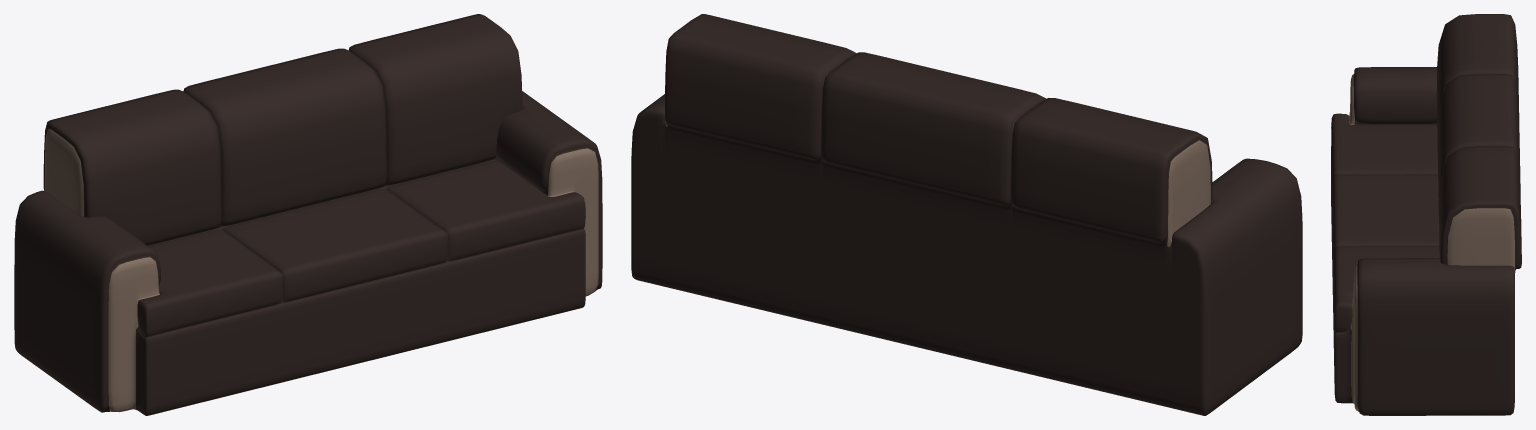
File: Couch.fbx
The picture shows the model from 3 angles, left to right: view 1: azimuth 30°, elevation 25°; view 2: azimuth 150°, elevation 25°; view 3: azimuth 270°, elevation 25°; orthographic projection. The views are drawn at different scales.
Parts seen in each view (by area): view 1: Couch; view 2: Couch; view 3: Couch.
Part boxes in pixels (x1=…): Couch: x1=14, y1=14, x2=602, y2=415; Couch: x1=631, y1=14, x2=1302, y2=415; Couch: x1=1331, y1=14, x2=1521, y2=415.
Size of the model in its own units: 185 by 78.51 by 68.14.
